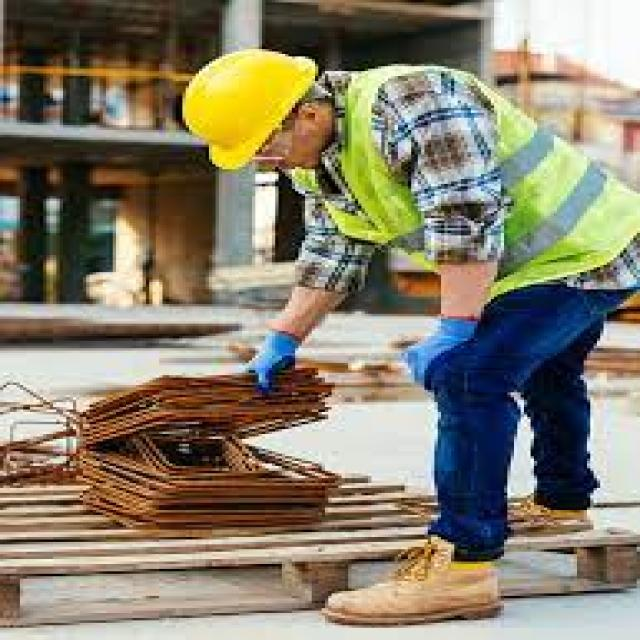shoes: (317, 540, 513, 626)
